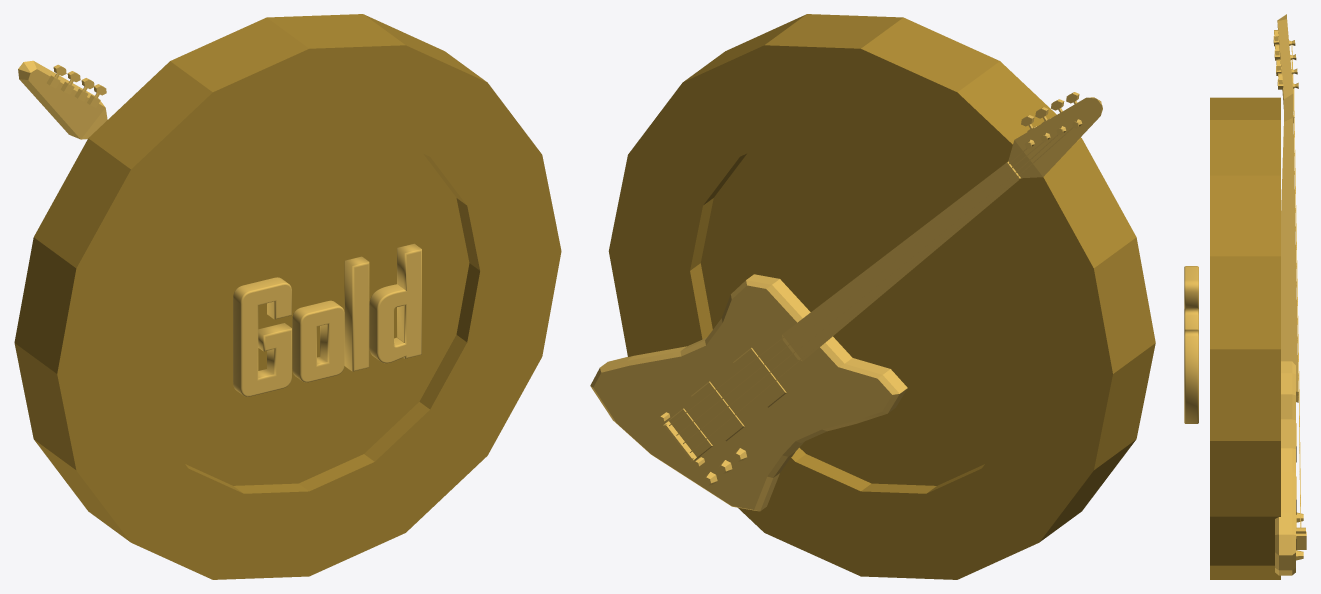
File: Gold_Bass.glb
The picture shows the model from 3 angles, left to right: view 1: azimuth 30°, elevation 25°; view 2: azimuth 150°, elevation 25°; view 3: azimuth 270°, elevation 25°; orthographic projection. The views are drawn at different scales.
Visible parts, largest first — view 1: Coin, Gold_Text, Bass Guitar; view 2: Coin, Bass Guitar; view 3: Coin, Bass Guitar, Gold_Text.
Boxes of the visible parts, bbox=[...] form: Coin: bbox=[14, 14, 561, 579]; Gold_Text: bbox=[233, 243, 421, 396]; Bass Guitar: bbox=[18, 60, 107, 139]; Coin: bbox=[608, 14, 1155, 579]; Bass Guitar: bbox=[590, 92, 1102, 511]; Coin: bbox=[1210, 97, 1280, 579]; Bass Guitar: bbox=[1273, 14, 1306, 575]; Gold_Text: bbox=[1184, 266, 1198, 423].
Bounding box in the file's own units: 1.01 × 1.01 × 0.2503.
